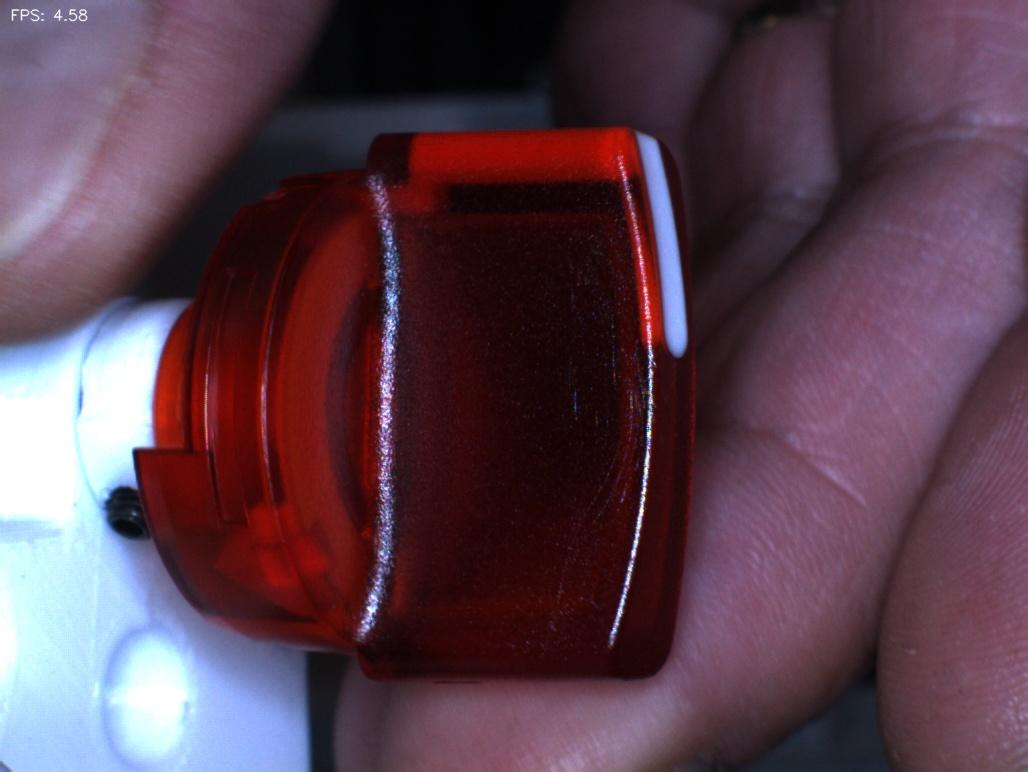Givrage: (558, 259, 642, 542)
